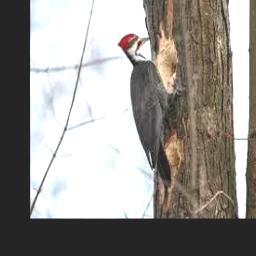Woodpecker: (118, 33, 181, 206)
